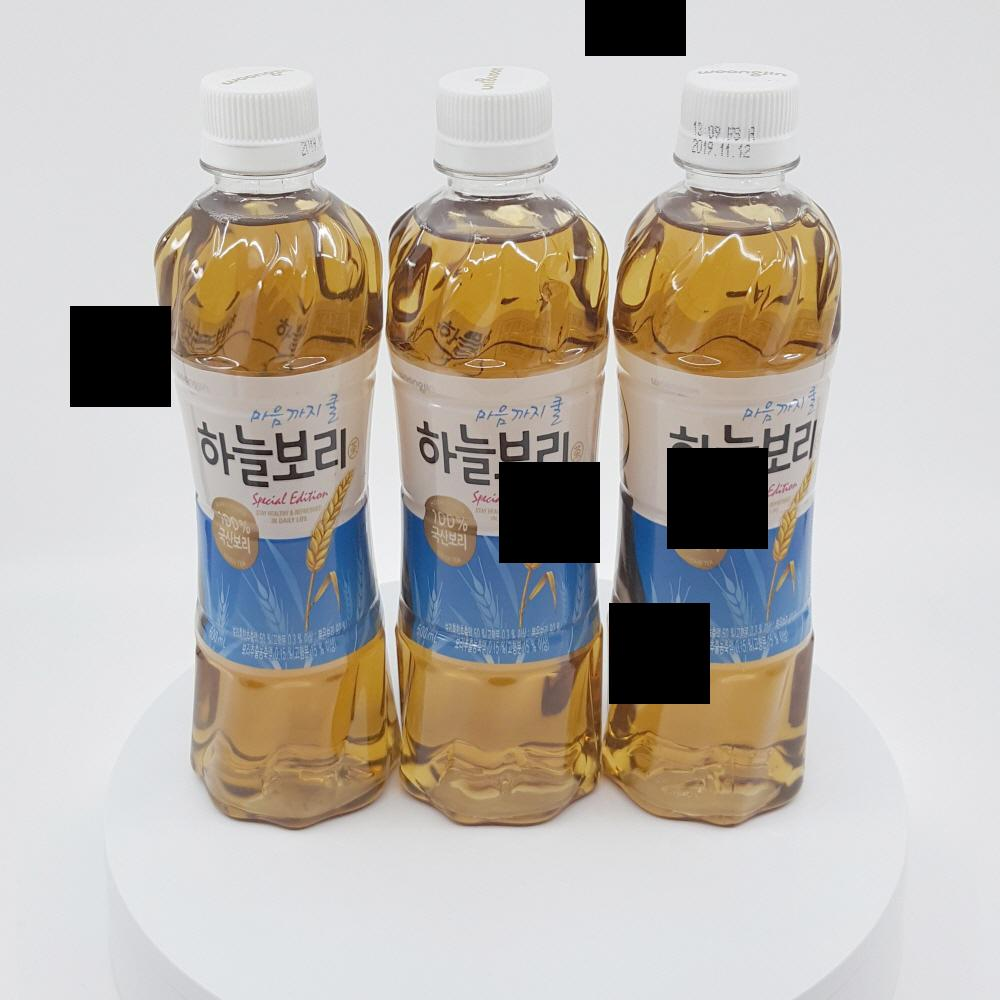haneulbori: (613, 53, 857, 839), (158, 58, 390, 832), (404, 58, 593, 832)
